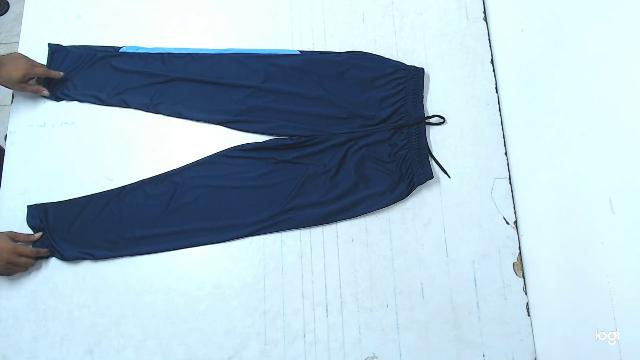new-garment: (27, 44, 444, 261)
